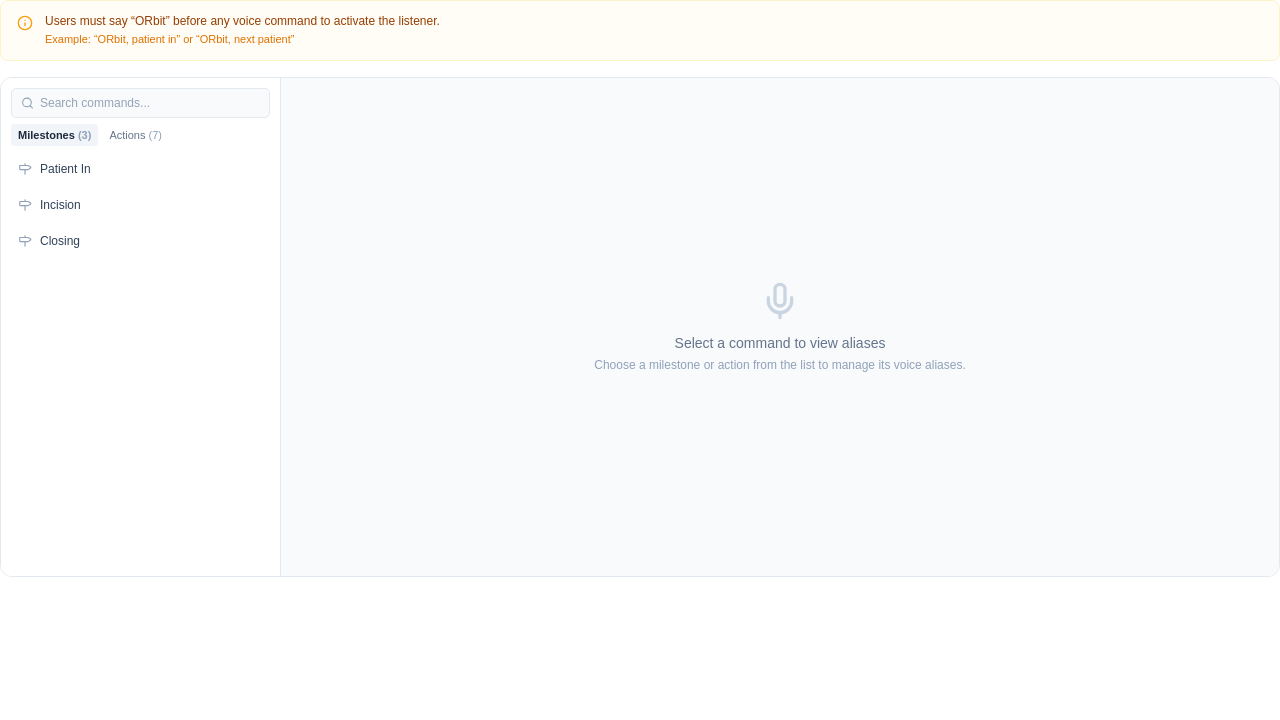
Test: VoiceCommandsPageClient › Integration: Tab switching and search › search filters milestones case-insensitively
In the field with placeholder "Search commands...": x=140, y=102 [11,88,270,118], type "inci"
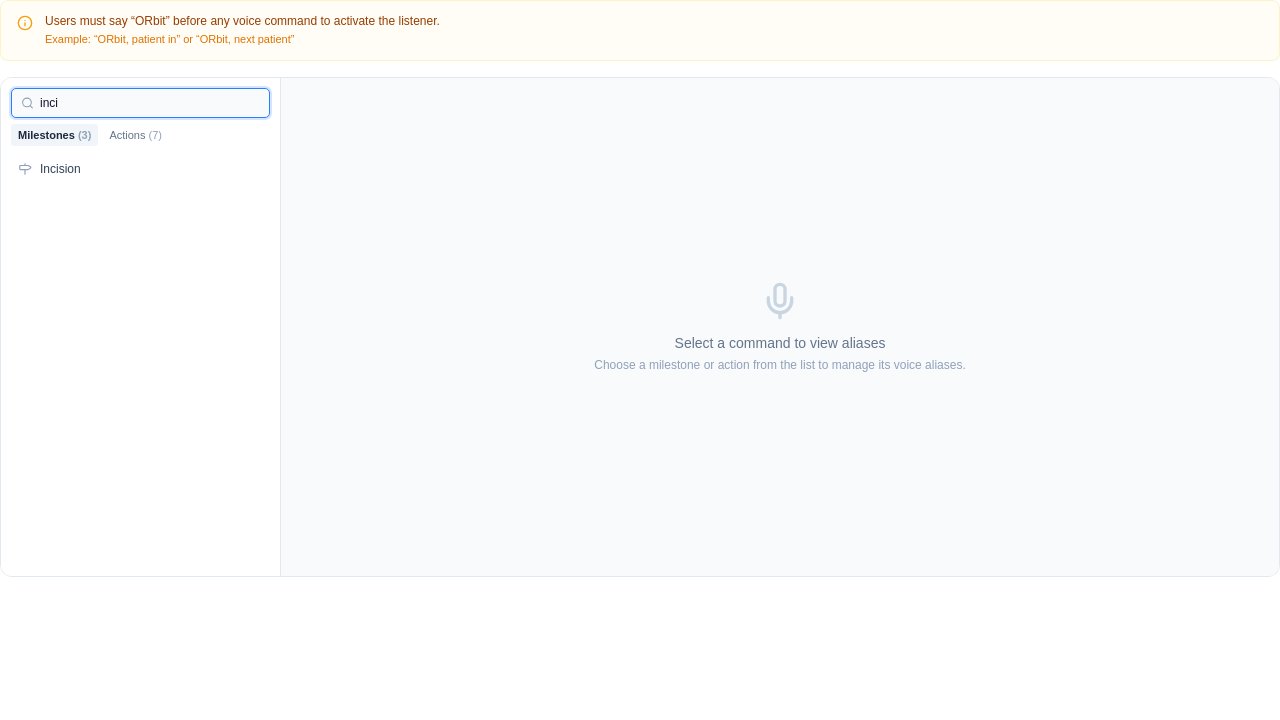
Expected: the text "Incision" is shown, [40,161,81,177]
Now the text "Closing" is gone
